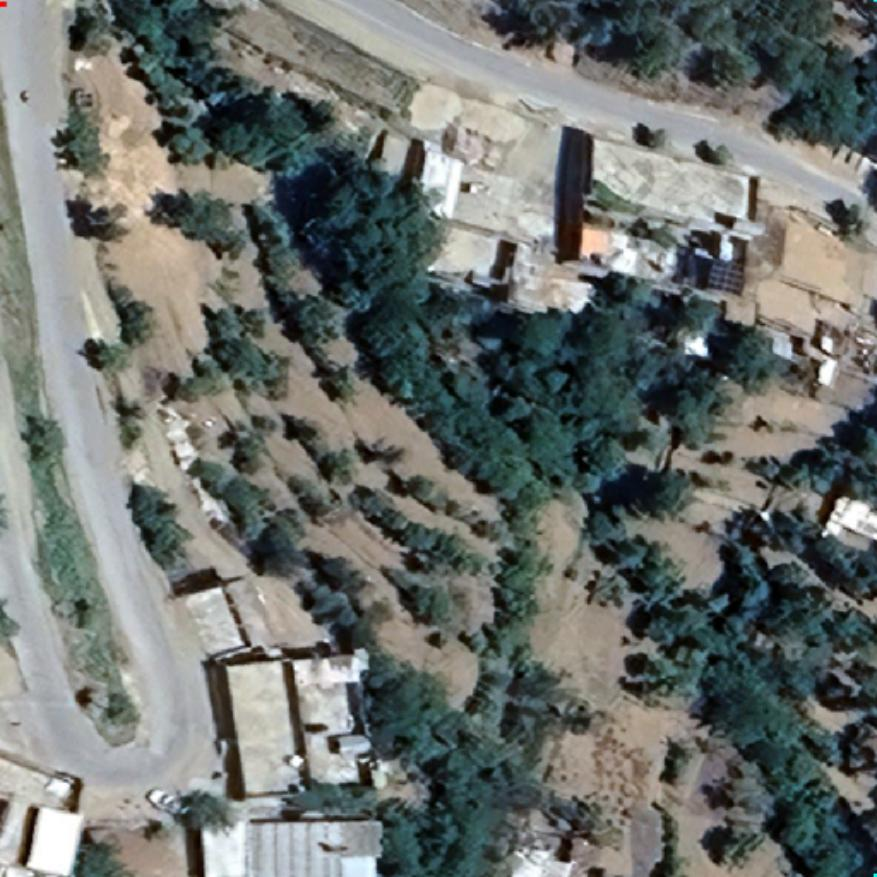Solarpanel: (706, 256, 746, 296)
